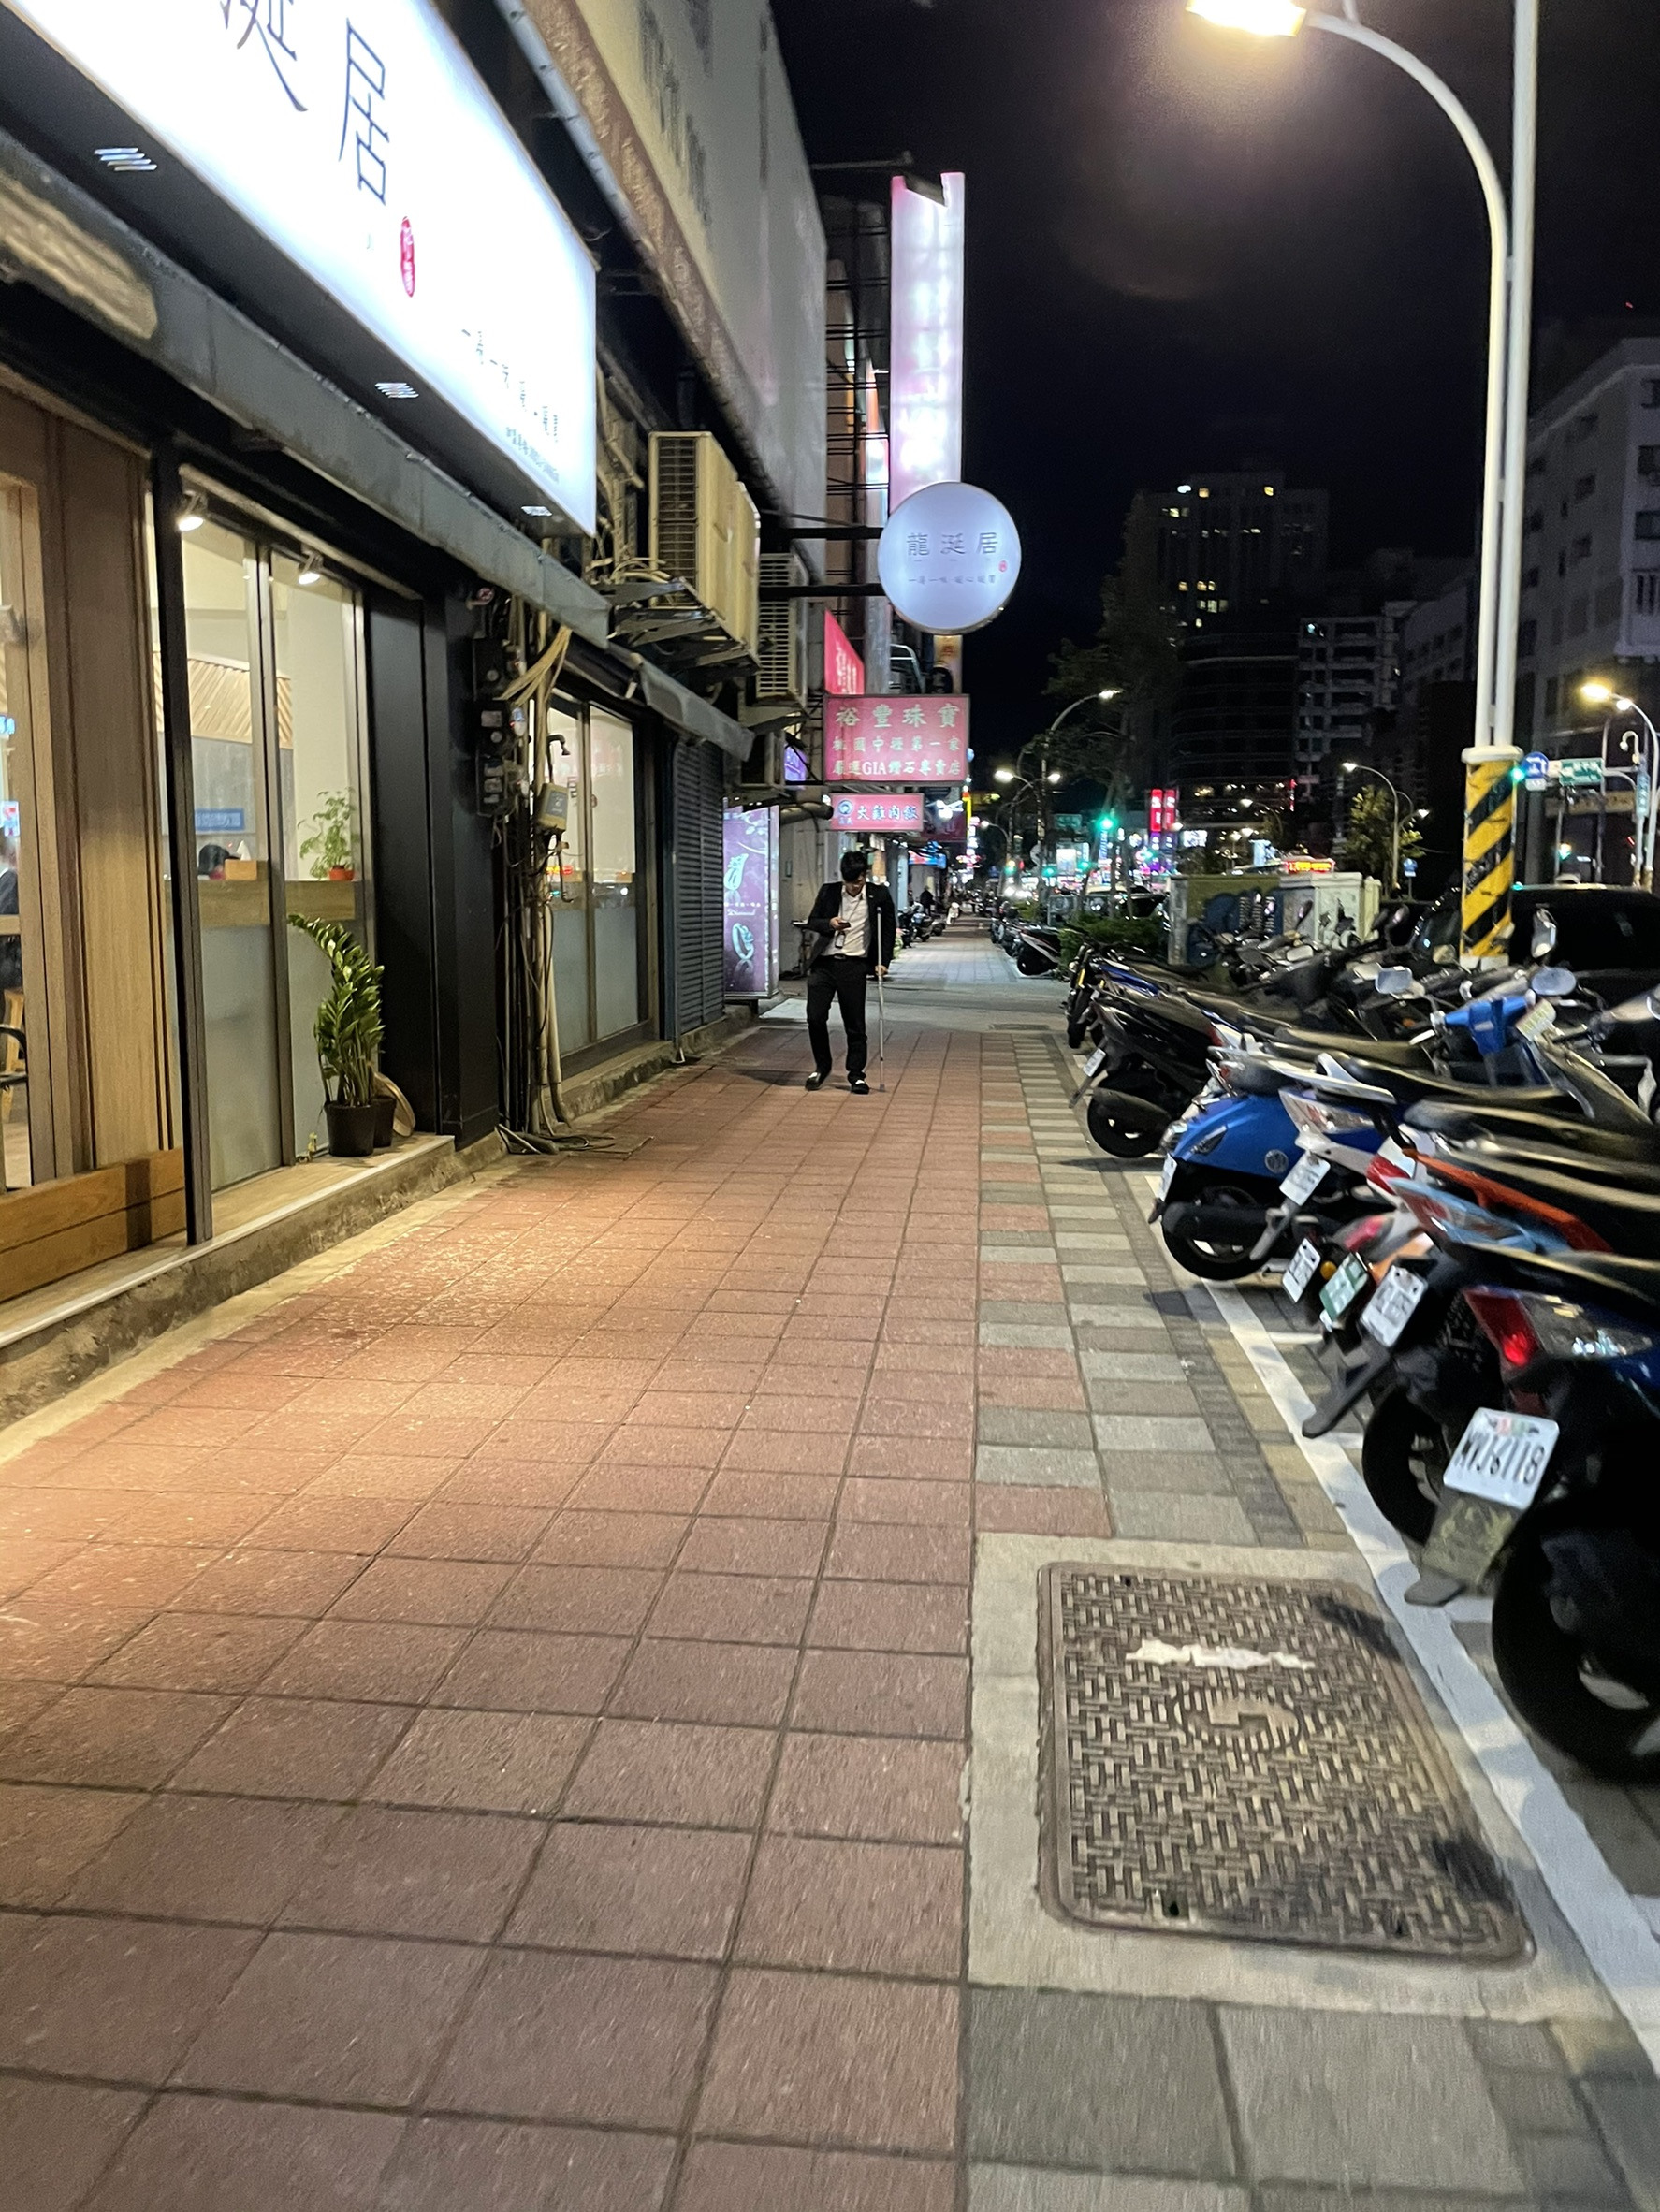people: (799, 848, 899, 1097)
